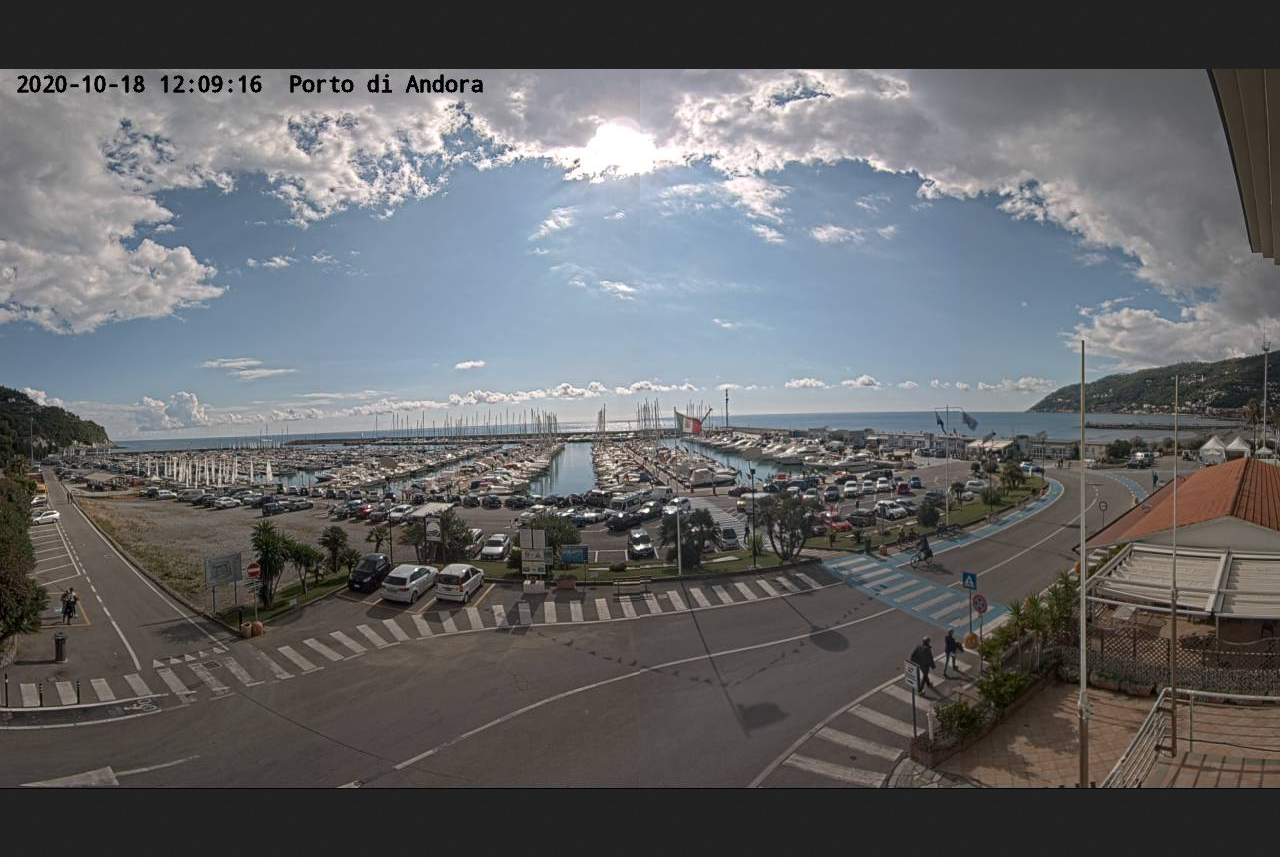yes: (669, 404, 703, 435)
